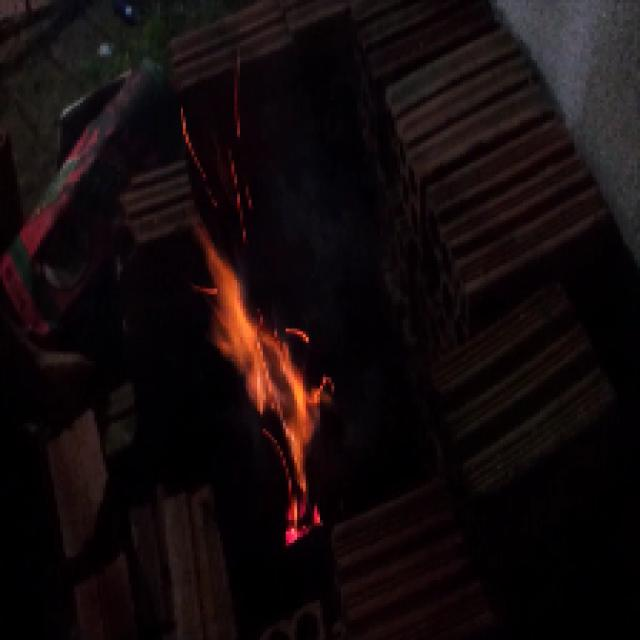fire: (192, 230, 320, 500)
